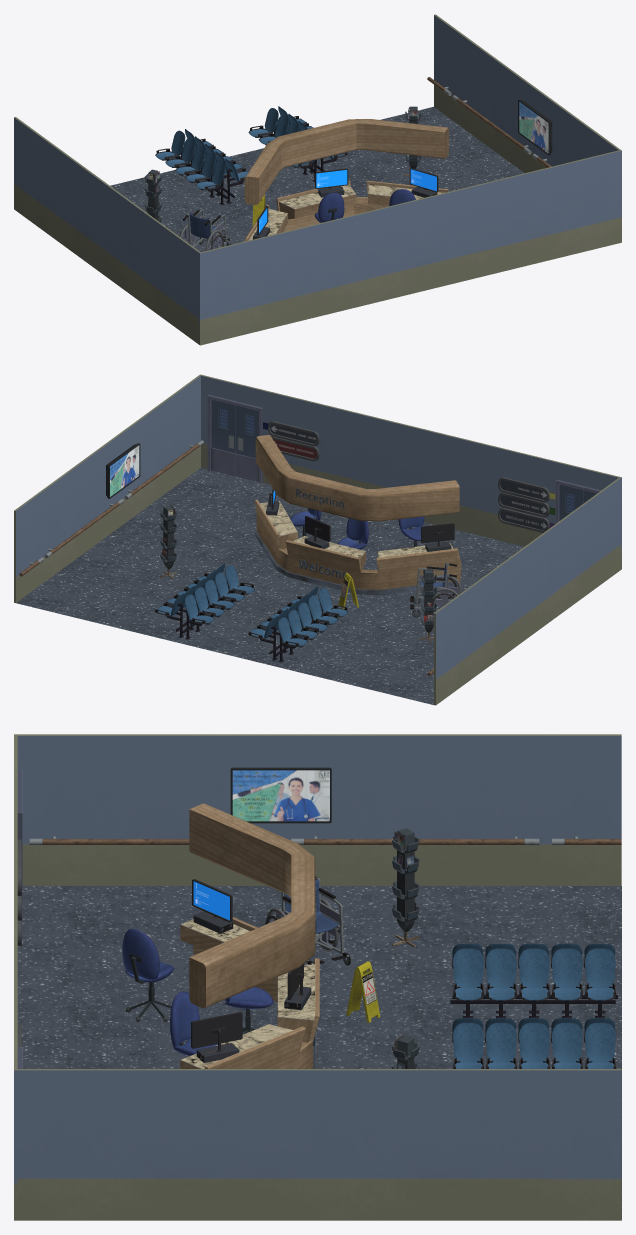
Rendered from hospital_reception_environment.glb.
3 views of the same model, one above another, from view 1: azimuth 30°, elevation 25°; view 2: azimuth 150°, elevation 25°; view 3: azimuth 270°, elevation 25° (orthographic). The views are drawn at different scales.
Parts seen in each view (by area): view 1: Wall, Wall_and_Door1, Floor, Wall_and_Door, polySurface103, Patient_Chair, polySurface83, ComputerAndMonitor, Wheelchair, TV, Magazine, Office_Chair (+1 smaller); view 2: Wall, Floor, Wall_and_Door, polySurface83, polySurface103, Patient_Chair, Wall_and_Door1, Direction_Sign, Magazine, ComputerAndMonitor, Office_Chair, TV (+2 smaller); view 3: Wall, Floor, Patient_Chair, polySurface103, polySurface83, FlippedTVScreen, Office_Chair, ComputerAndMonitor, Magazine, polySurface82, Wheelchair, Wet_Floor_Sign (+3 smaller).
Part boxes in pixels (x1,y1,x2,y2): Wall: [14, 14, 620, 344]; Wall_and_Door1: [199, 218, 340, 345]; Floor: [110, 106, 524, 252]; Wall_and_Door: [480, 150, 621, 276]; polySurface103: [244, 119, 448, 204]; Patient_Chair: [155, 106, 348, 205]; polySurface83: [245, 180, 448, 241]; ComputerAndMonitor: [253, 168, 438, 239]; Wheelchair: [179, 209, 230, 250]; TV: [518, 99, 552, 155]; Magazine: [144, 106, 421, 222]; Office_Chair: [314, 189, 415, 222]; Wall: [14, 375, 620, 705]; Floor: [14, 467, 524, 704]; Wall_and_Door: [199, 374, 340, 484]; polySurface83: [254, 499, 461, 594]; polySurface103: [255, 435, 459, 521]; Patient_Chair: [154, 563, 348, 662]; Wall_and_Door1: [480, 443, 621, 569]; Direction_Sign: [268, 421, 549, 532]; Magazine: [159, 505, 437, 642]; ComputerAndMonitor: [266, 488, 454, 551]; Office_Chair: [290, 508, 424, 549]; TV: [106, 443, 140, 498]; Wall: [14, 734, 621, 1220]; Floor: [17, 886, 621, 1219]; Patient_Chair: [450, 944, 617, 1068]; polySurface103: [189, 803, 315, 1007]; polySurface83: [180, 917, 319, 1068]; FlippedTVScreen: [232, 770, 329, 821]; Office_Chair: [122, 928, 273, 1056]; ComputerAndMonitor: [191, 879, 311, 1062]; Magazine: [391, 828, 419, 1068]; polySurface82: [29, 836, 621, 845]; Wheelchair: [265, 876, 350, 965]; Wet_Floor_Sign: [346, 961, 380, 1022].
Bounding box in the file's own units: 12 × 2.75 × 9.18.
9 materials, 9 textured.
